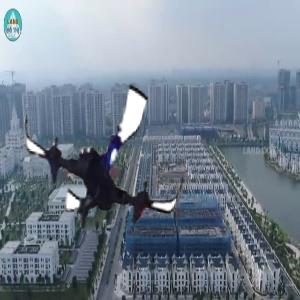drone: (16, 67, 194, 245)
